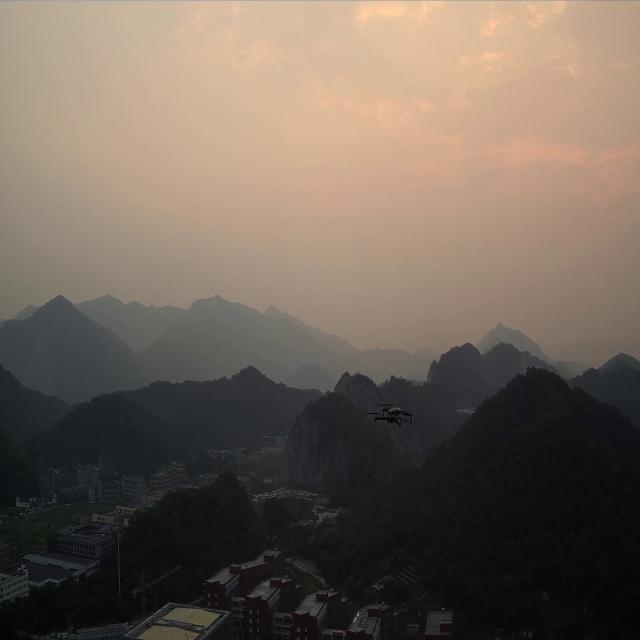UAV: (364, 403, 416, 428)
